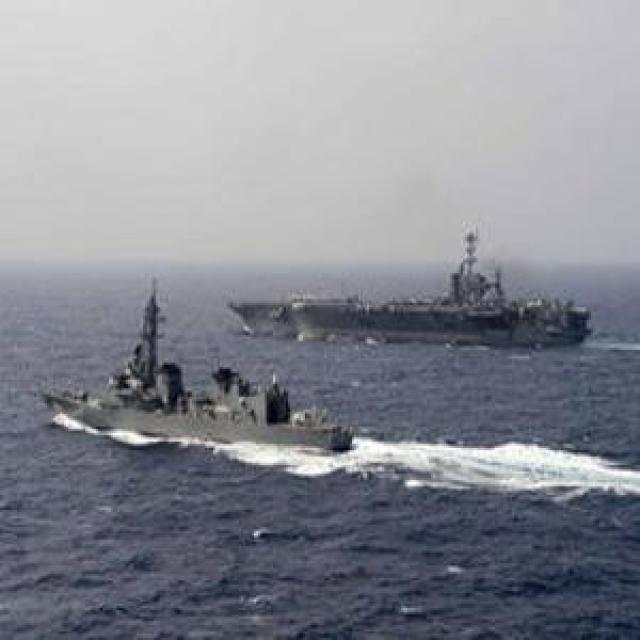navalvessels: (39, 303, 354, 455), (223, 244, 589, 349)
